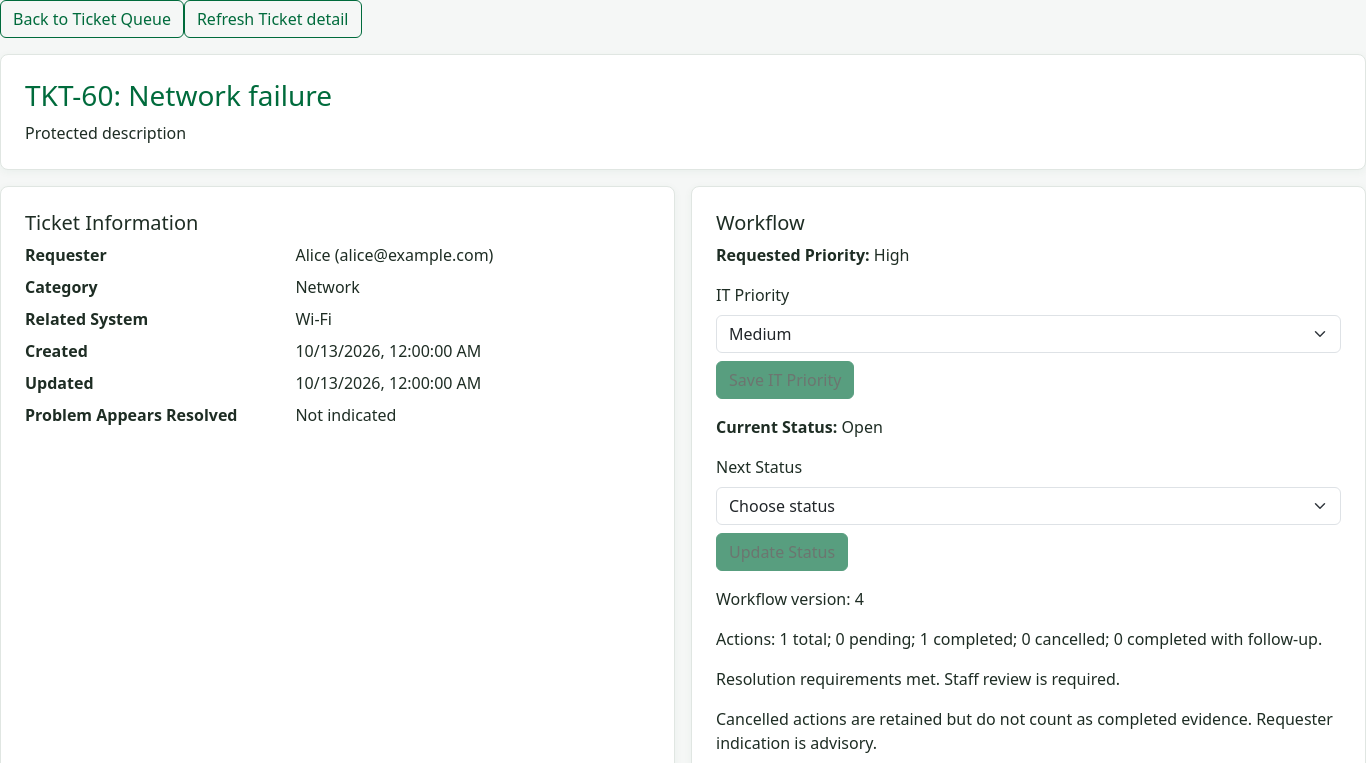
it: Issue #60 workflow controls › distinguishes gate failure from stale conflict and displays server reason codes
Select "Resolved" in the dropdown labelled "Next Status". click: (1028, 506)
box: [716,487,1341,525]
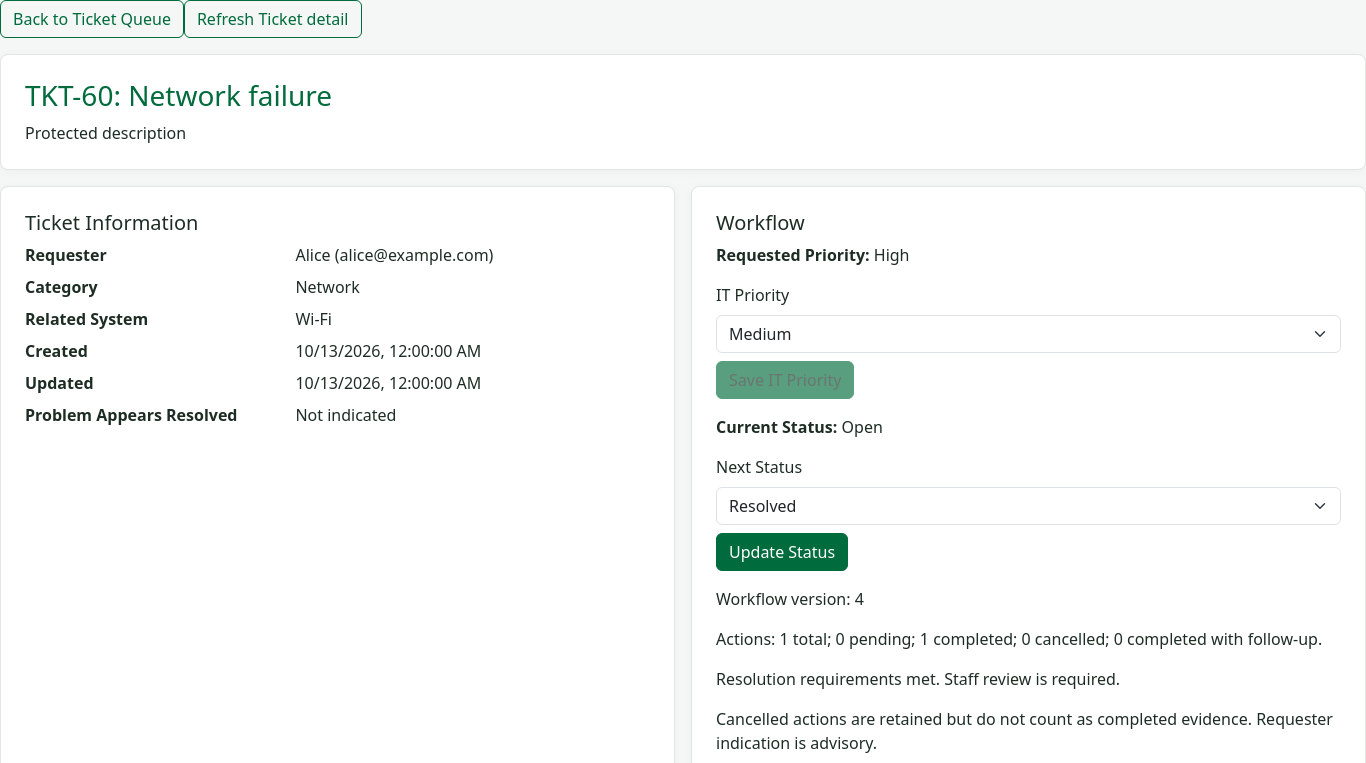
Click the button "Update Status". click: click(782, 552)
box: [716,533,848,571]
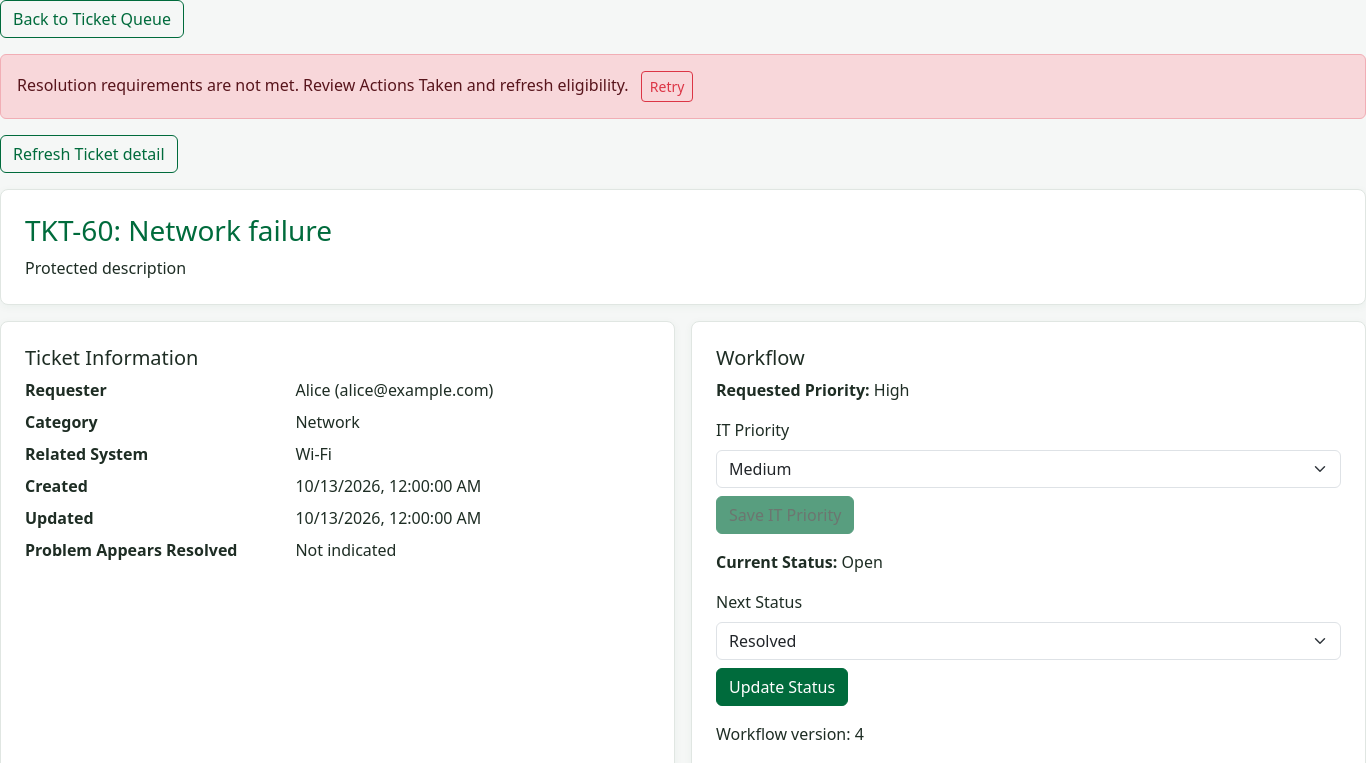
Expected: the dropdown labelled "Next Status" is enabled, [716,622,1341,660]
Expected: the text "Review Actions Taken and refresh eligibility" is shown, [17,74,629,96]
